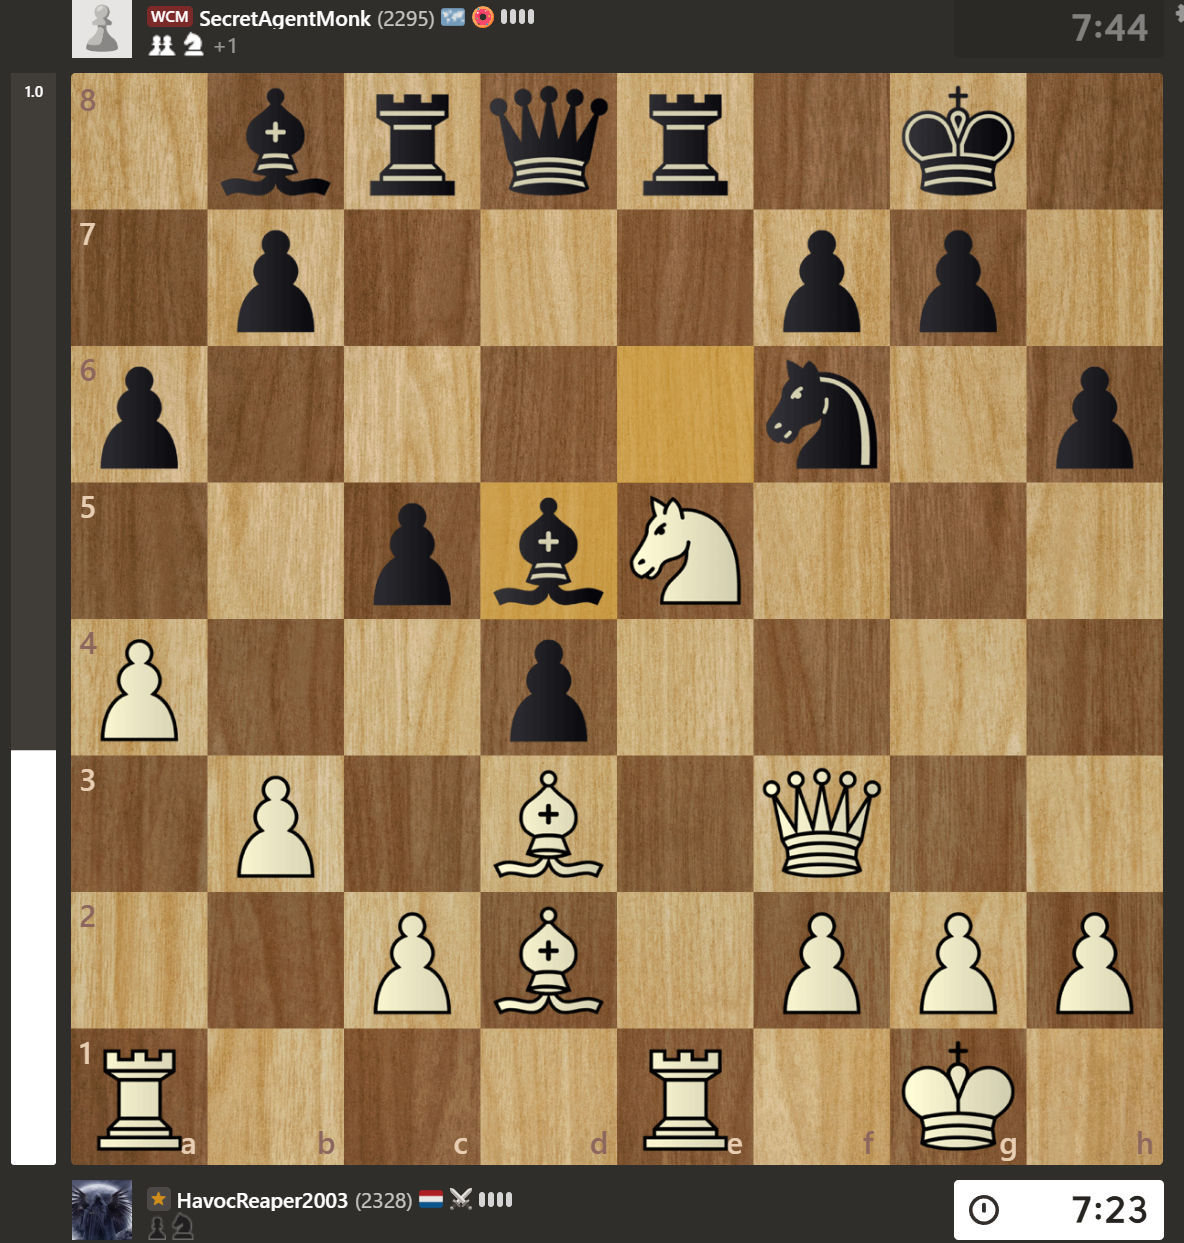beyaz_at: (625, 485, 751, 613)
beyaz_fil: (487, 896, 617, 1025), (487, 761, 615, 881)
beyaz_kale: (74, 1032, 202, 1160), (623, 1032, 750, 1160)
beyaz_piyon: (892, 897, 1022, 1025), (74, 621, 202, 752), (756, 897, 884, 1022), (348, 898, 473, 1022), (214, 761, 337, 887), (1031, 897, 1158, 1018)
beyaz_sah: (894, 1032, 1022, 1158)
beyaz_vezir: (758, 762, 887, 887)
siyah_at: (761, 353, 884, 478)
siyah_fil: (212, 79, 340, 208), (480, 487, 609, 610)
siyah_kale: (346, 77, 478, 204), (618, 75, 750, 201)
siyah_piyon: (484, 623, 613, 752), (210, 215, 337, 340), (758, 218, 884, 340), (77, 348, 196, 473), (894, 221, 1019, 338), (346, 491, 458, 617), (1041, 356, 1153, 474)
siyah_sah: (887, 75, 1022, 205)
siyah_vezir: (484, 74, 614, 202)
